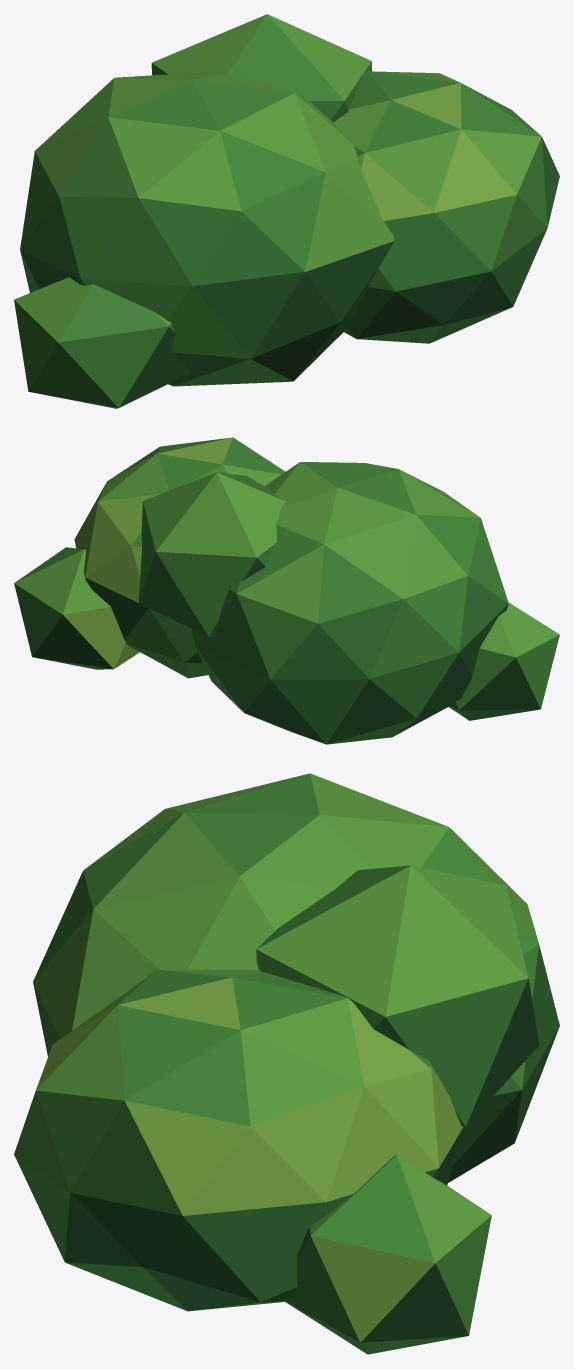
File: city-bush.glb
3 renders of one model, top to bottom at view 1: azimuth 30°, elevation 25°; view 2: azimuth 150°, elevation 25°; view 3: azimuth 270°, elevation 25°, orthographic. The views are drawn at different scales.
Visible parts, largest first — view 1: CityBush; view 2: CityBush; view 3: CityBush.
Part boxes in pixels (left/top/right/bottom): CityBush: left=14, top=14, right=559, bottom=408; CityBush: left=14, top=437, right=559, bottom=744; CityBush: left=14, top=773, right=559, bottom=1354.
Bounding box in the file's own units: 2.42 × 1.25 × 1.55.
